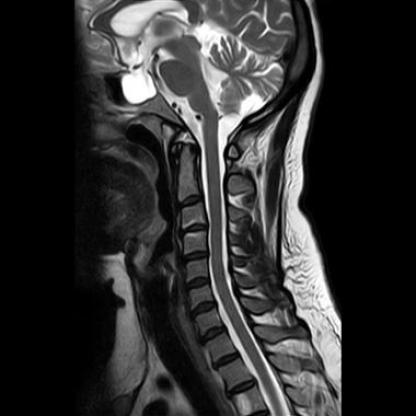Disc Bulgerotation: (182, 250, 209, 266), (182, 222, 208, 236)
